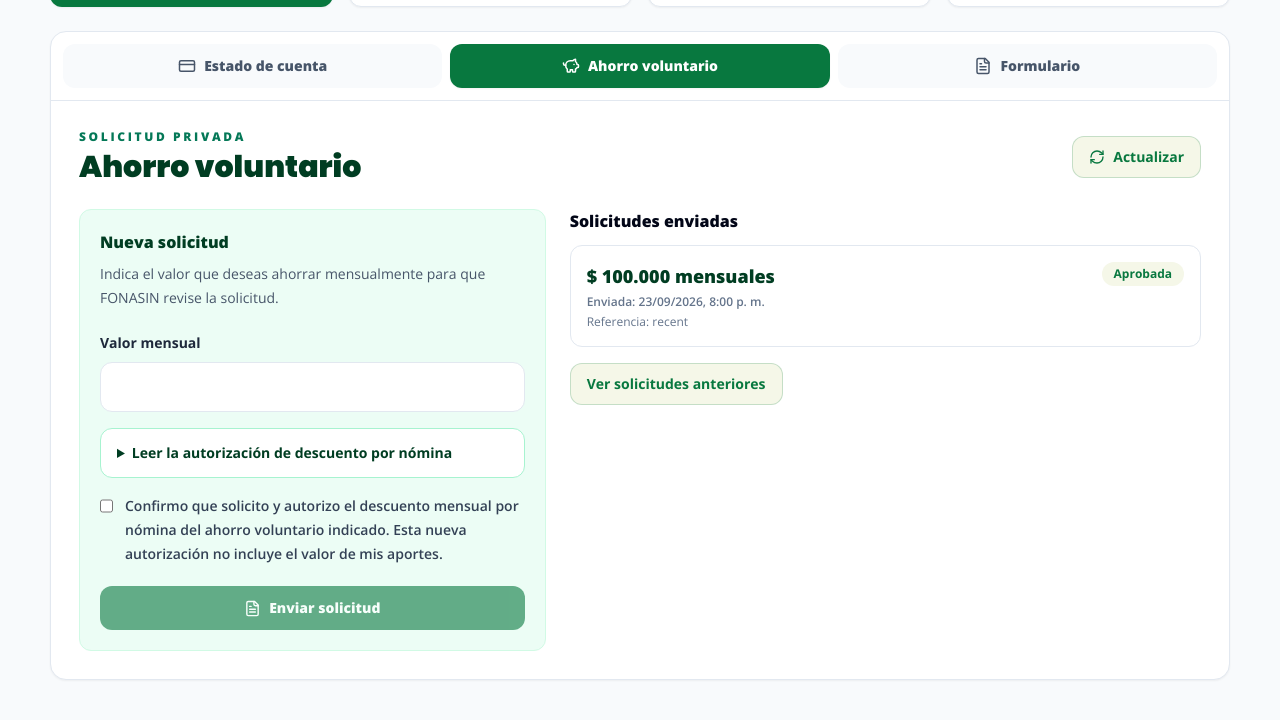
Scenario: AppRoutes › lets an associate inspect older voluntary savings requests
(page scrolled)
Expected: the text "Referencia: recent" is shown, [587,313,688,330]
Click the button "Ver solicitudes anteriores": [676, 384] box [570,363,782,405]
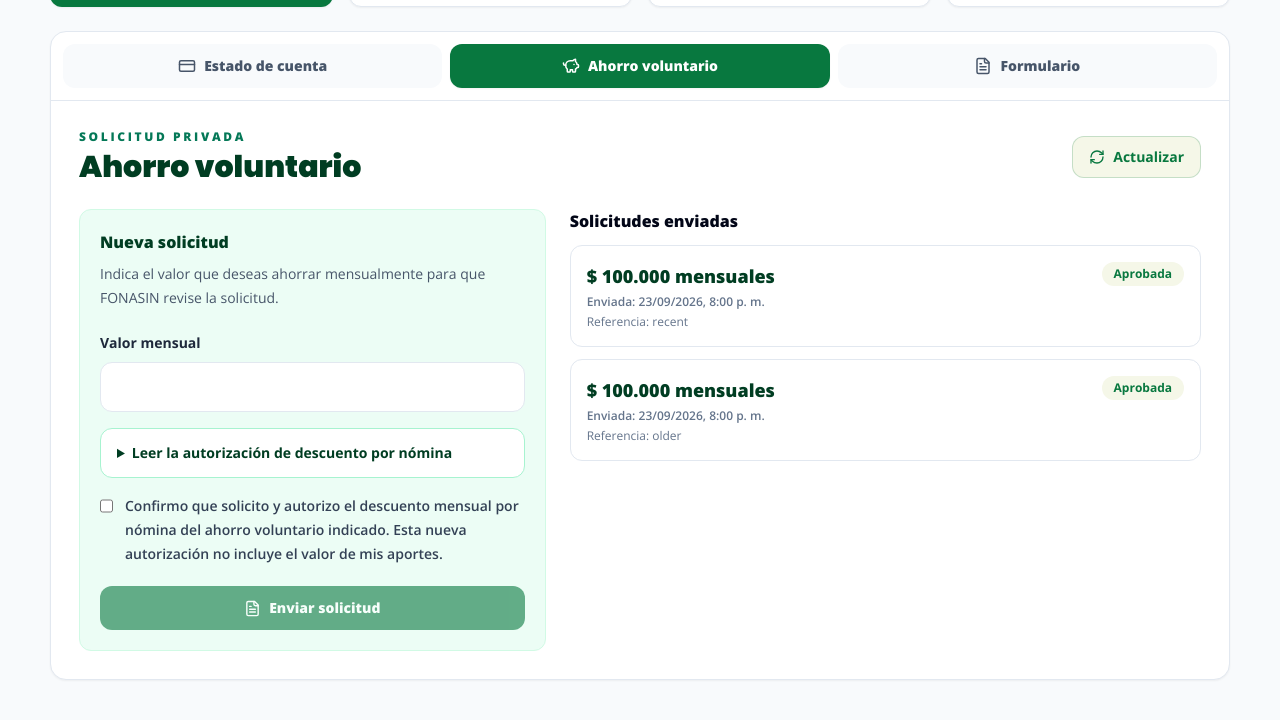
Expected: the text "Referencia: older" is shown, [587,427,682,444]
Expected: the button "Ver solicitudes anteriores" is gone
